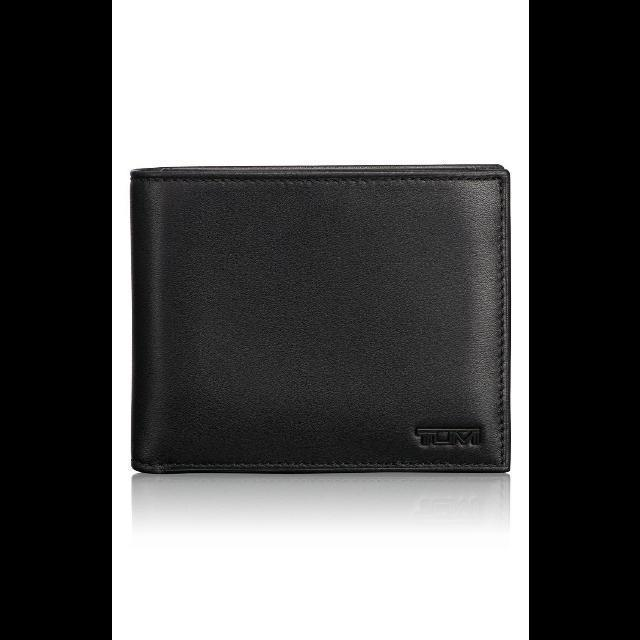wallet: (120, 160, 514, 480)
